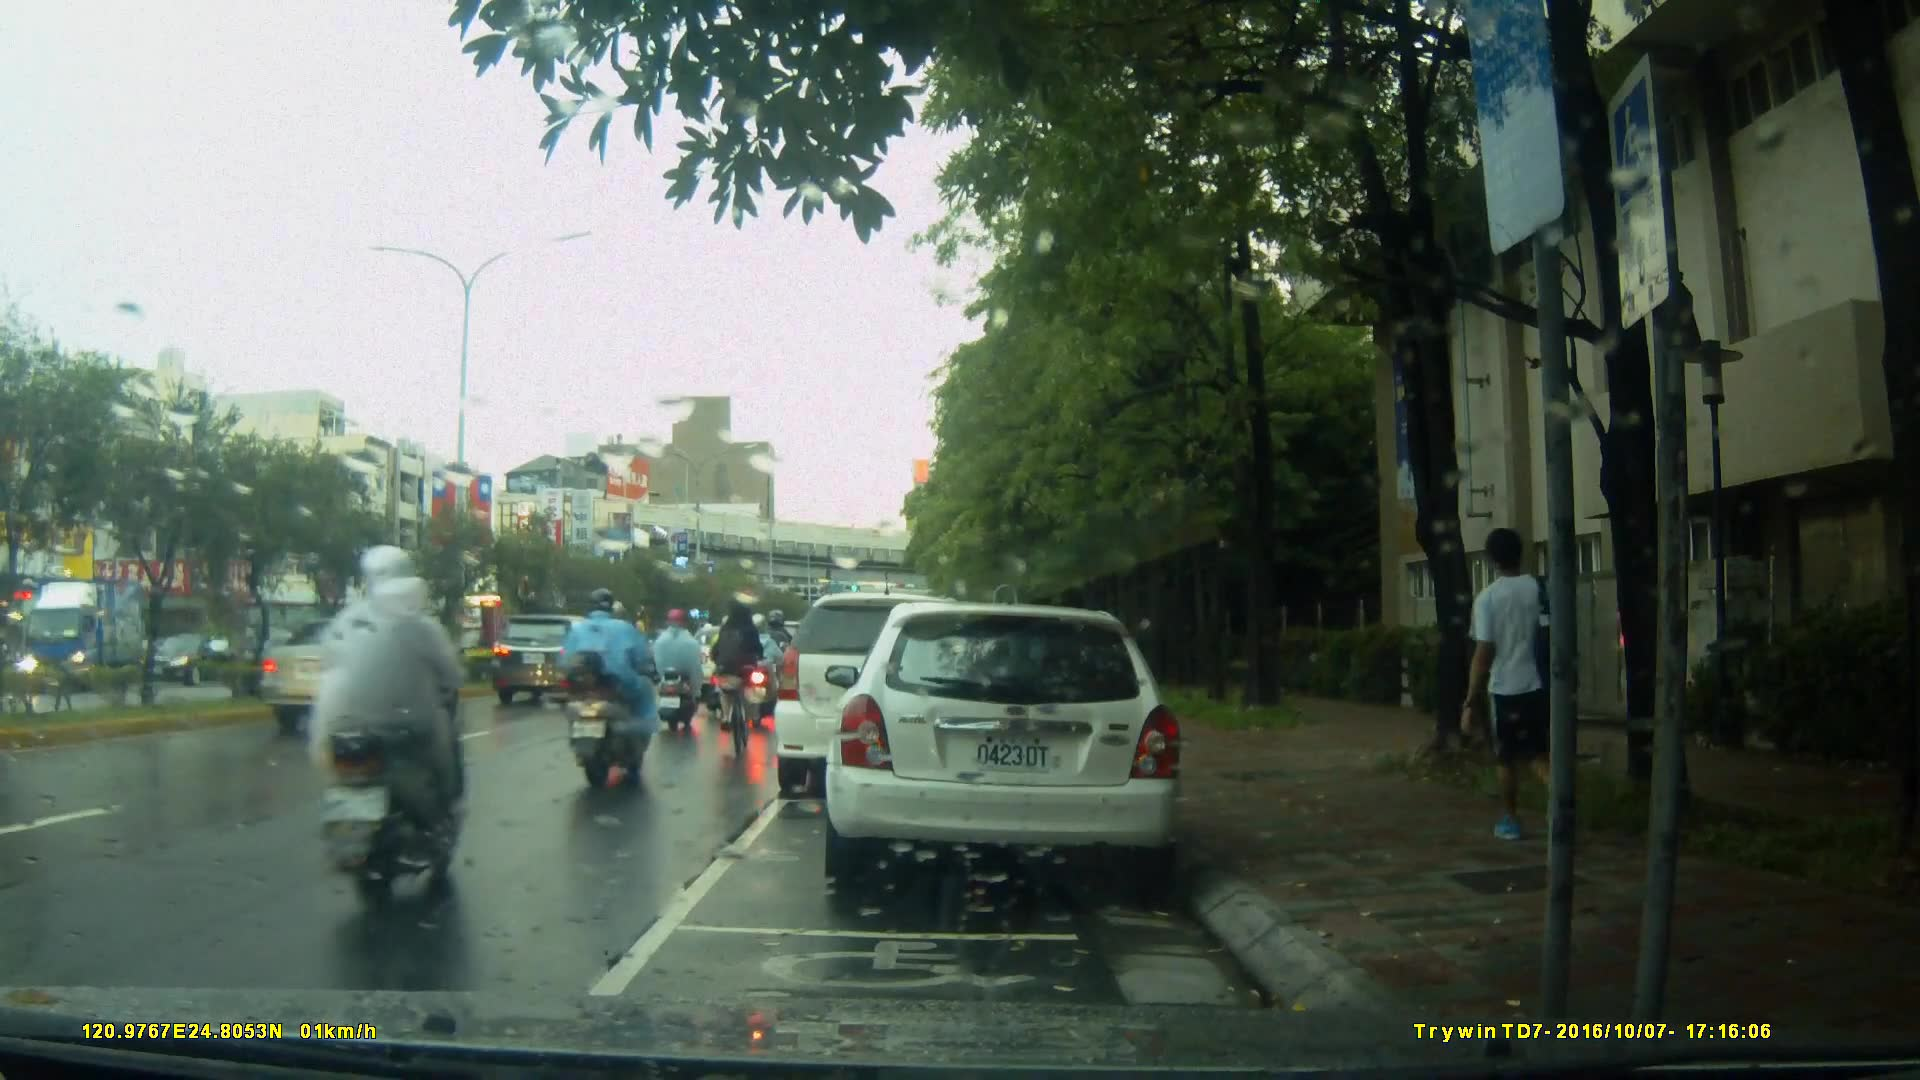pedestrian: (1474, 509, 1589, 883)
rider: (295, 545, 472, 917), (562, 590, 660, 791), (322, 587, 407, 796), (708, 600, 764, 772), (650, 604, 707, 727), (739, 618, 787, 727), (702, 611, 745, 709)
vehicle: (822, 604, 1188, 882), (774, 595, 995, 802), (253, 614, 465, 735), (489, 613, 621, 707), (144, 630, 241, 686)
